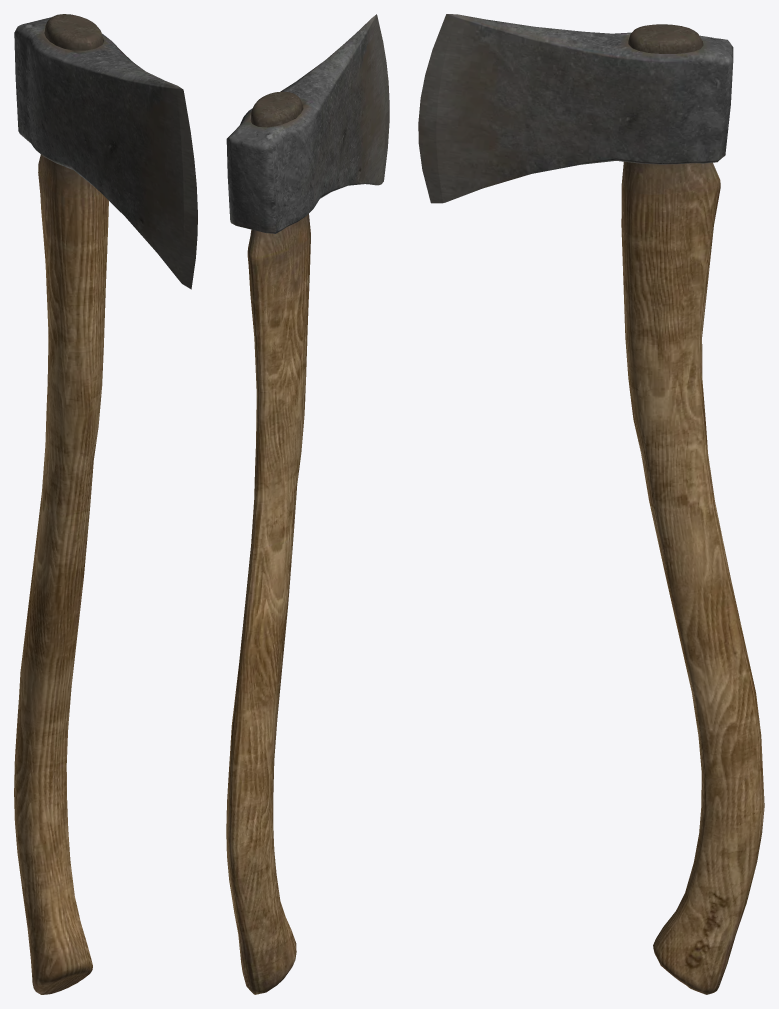
File: wooden_axe_02.glb
3 views of the same model, side by side, from view 1: azimuth 30°, elevation 25°; view 2: azimuth 150°, elevation 25°; view 3: azimuth 270°, elevation 25° (orthographic). The views are drawn at different scales.
Parts seen in each view (by area): view 1: wooden_axe_02; view 2: wooden_axe_02; view 3: wooden_axe_02.
Boxes of the visible parts, x1,y1,x2,y2 form: wooden_axe_02: (14,14,197,994); wooden_axe_02: (226,14,389,994); wooden_axe_02: (418,14,764,994).
Size of the model in its own units: 0.0509 by 0.7042 by 0.2258.
1 material, 1 textured.
